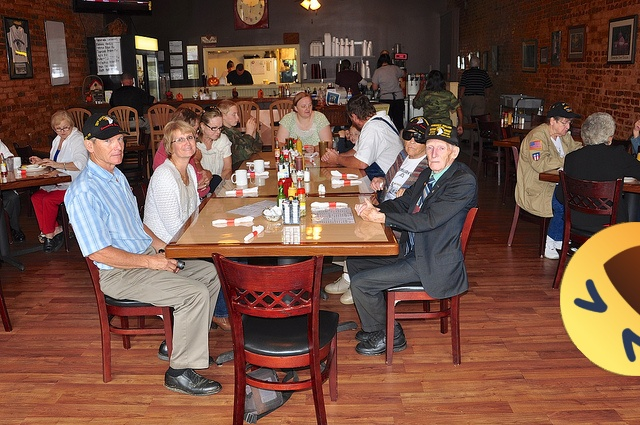haha: (560, 222, 640, 376)
